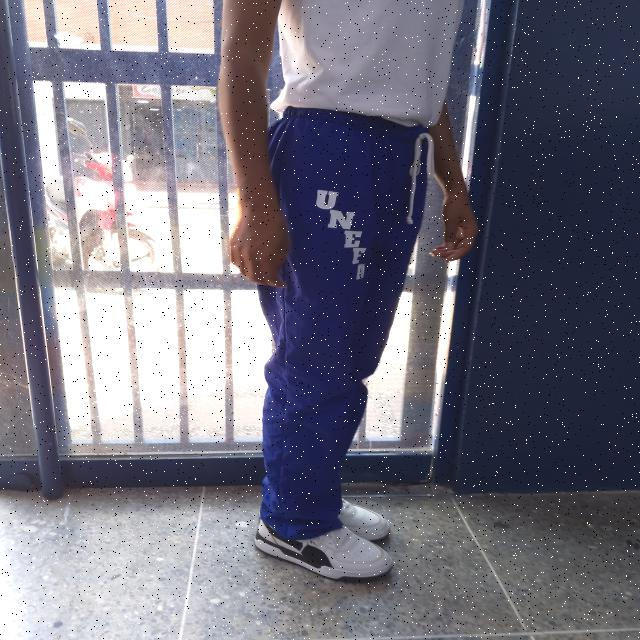uniforme_superior: (256, 104, 434, 542)
